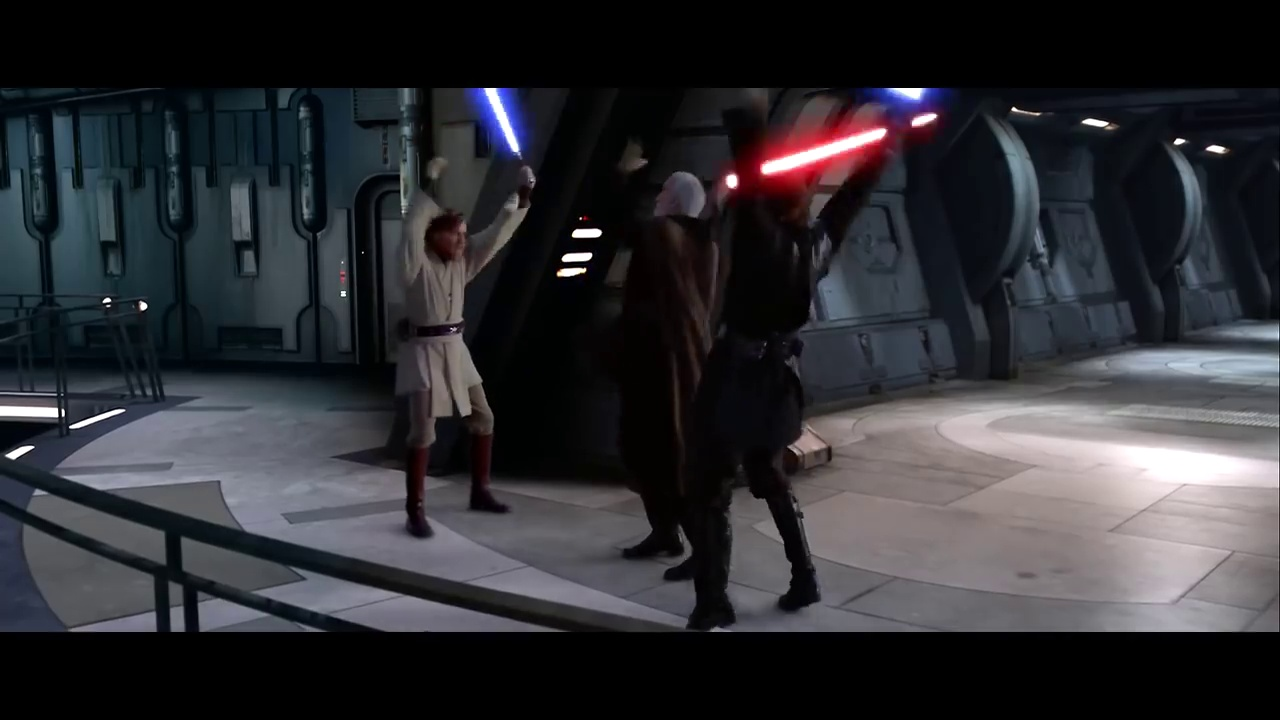lightsaber: (707, 100, 943, 189), (467, 77, 538, 189)
